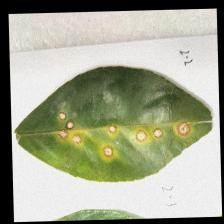canker: (53, 105, 187, 161)
